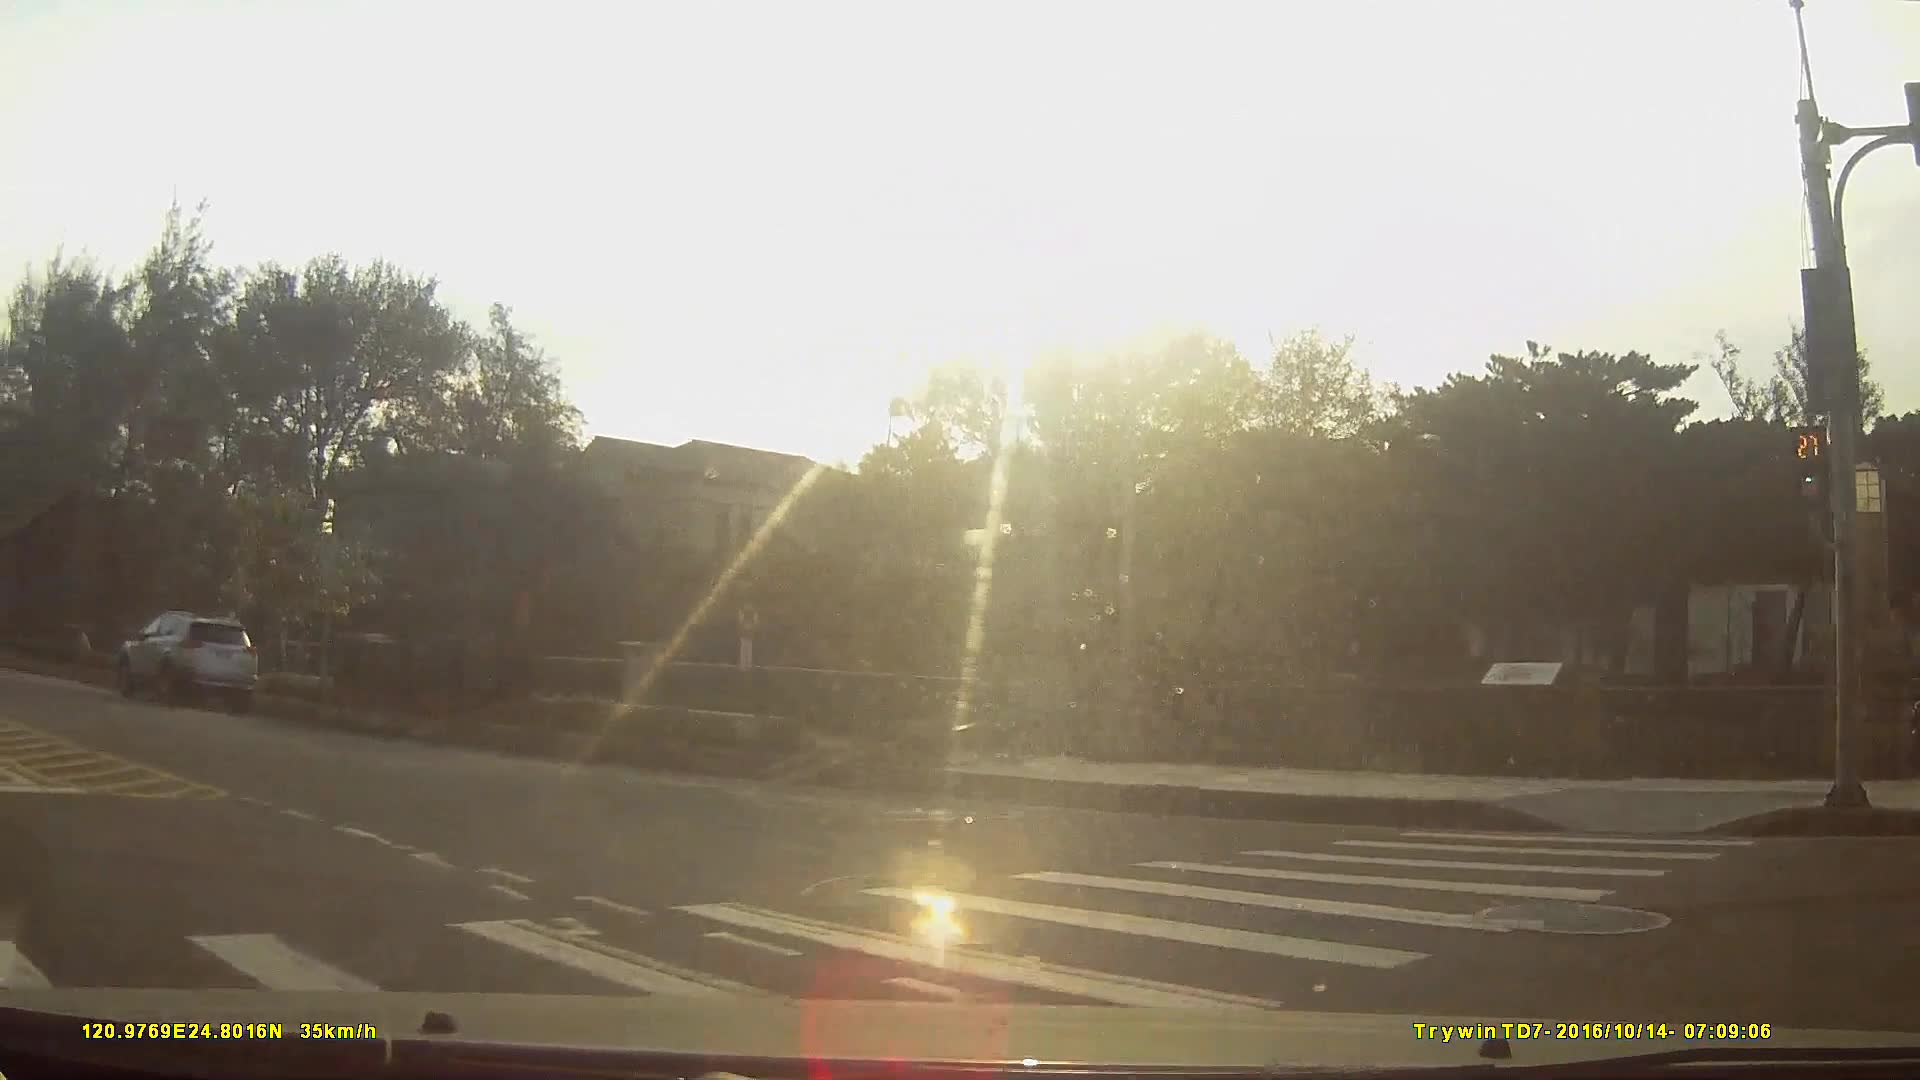vehicle: (116, 607, 257, 705)
